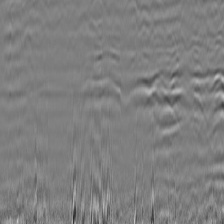cavities: (44, 55, 181, 176)
